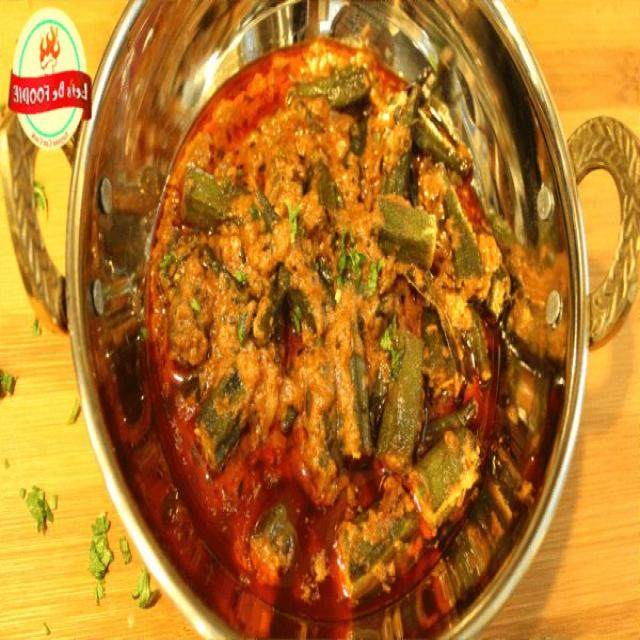Bhindi Masala: (140, 30, 514, 617)
